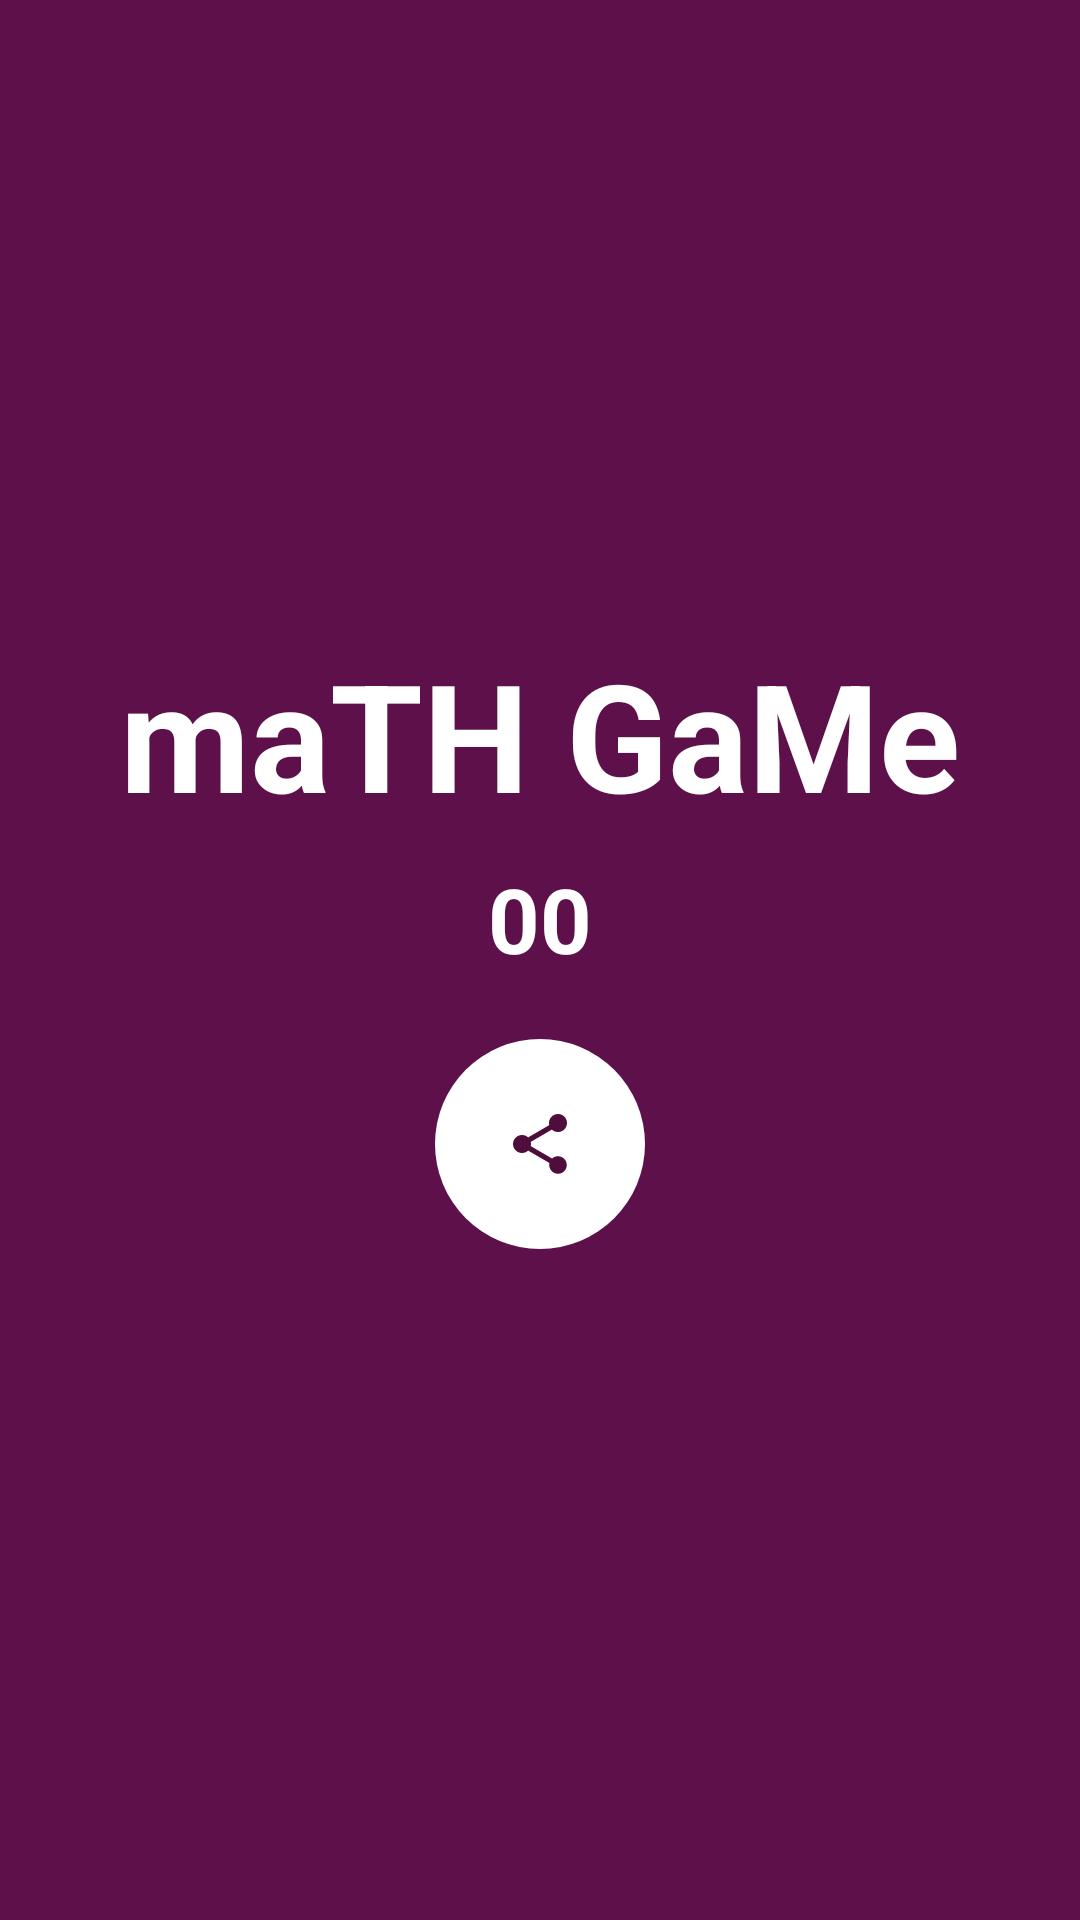

Screen size 1080px×1920px. Icon name, then its box in pixels as (x1, y1, x2, y2):
share: (435, 1039, 645, 1249)
